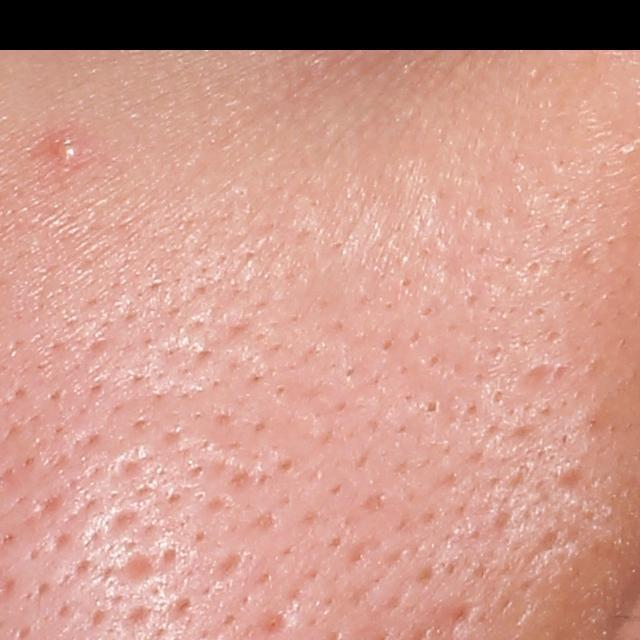atrophic_scar: (116, 551, 159, 587)
comedo: (422, 398, 445, 418)
pustule: (48, 129, 79, 161)
